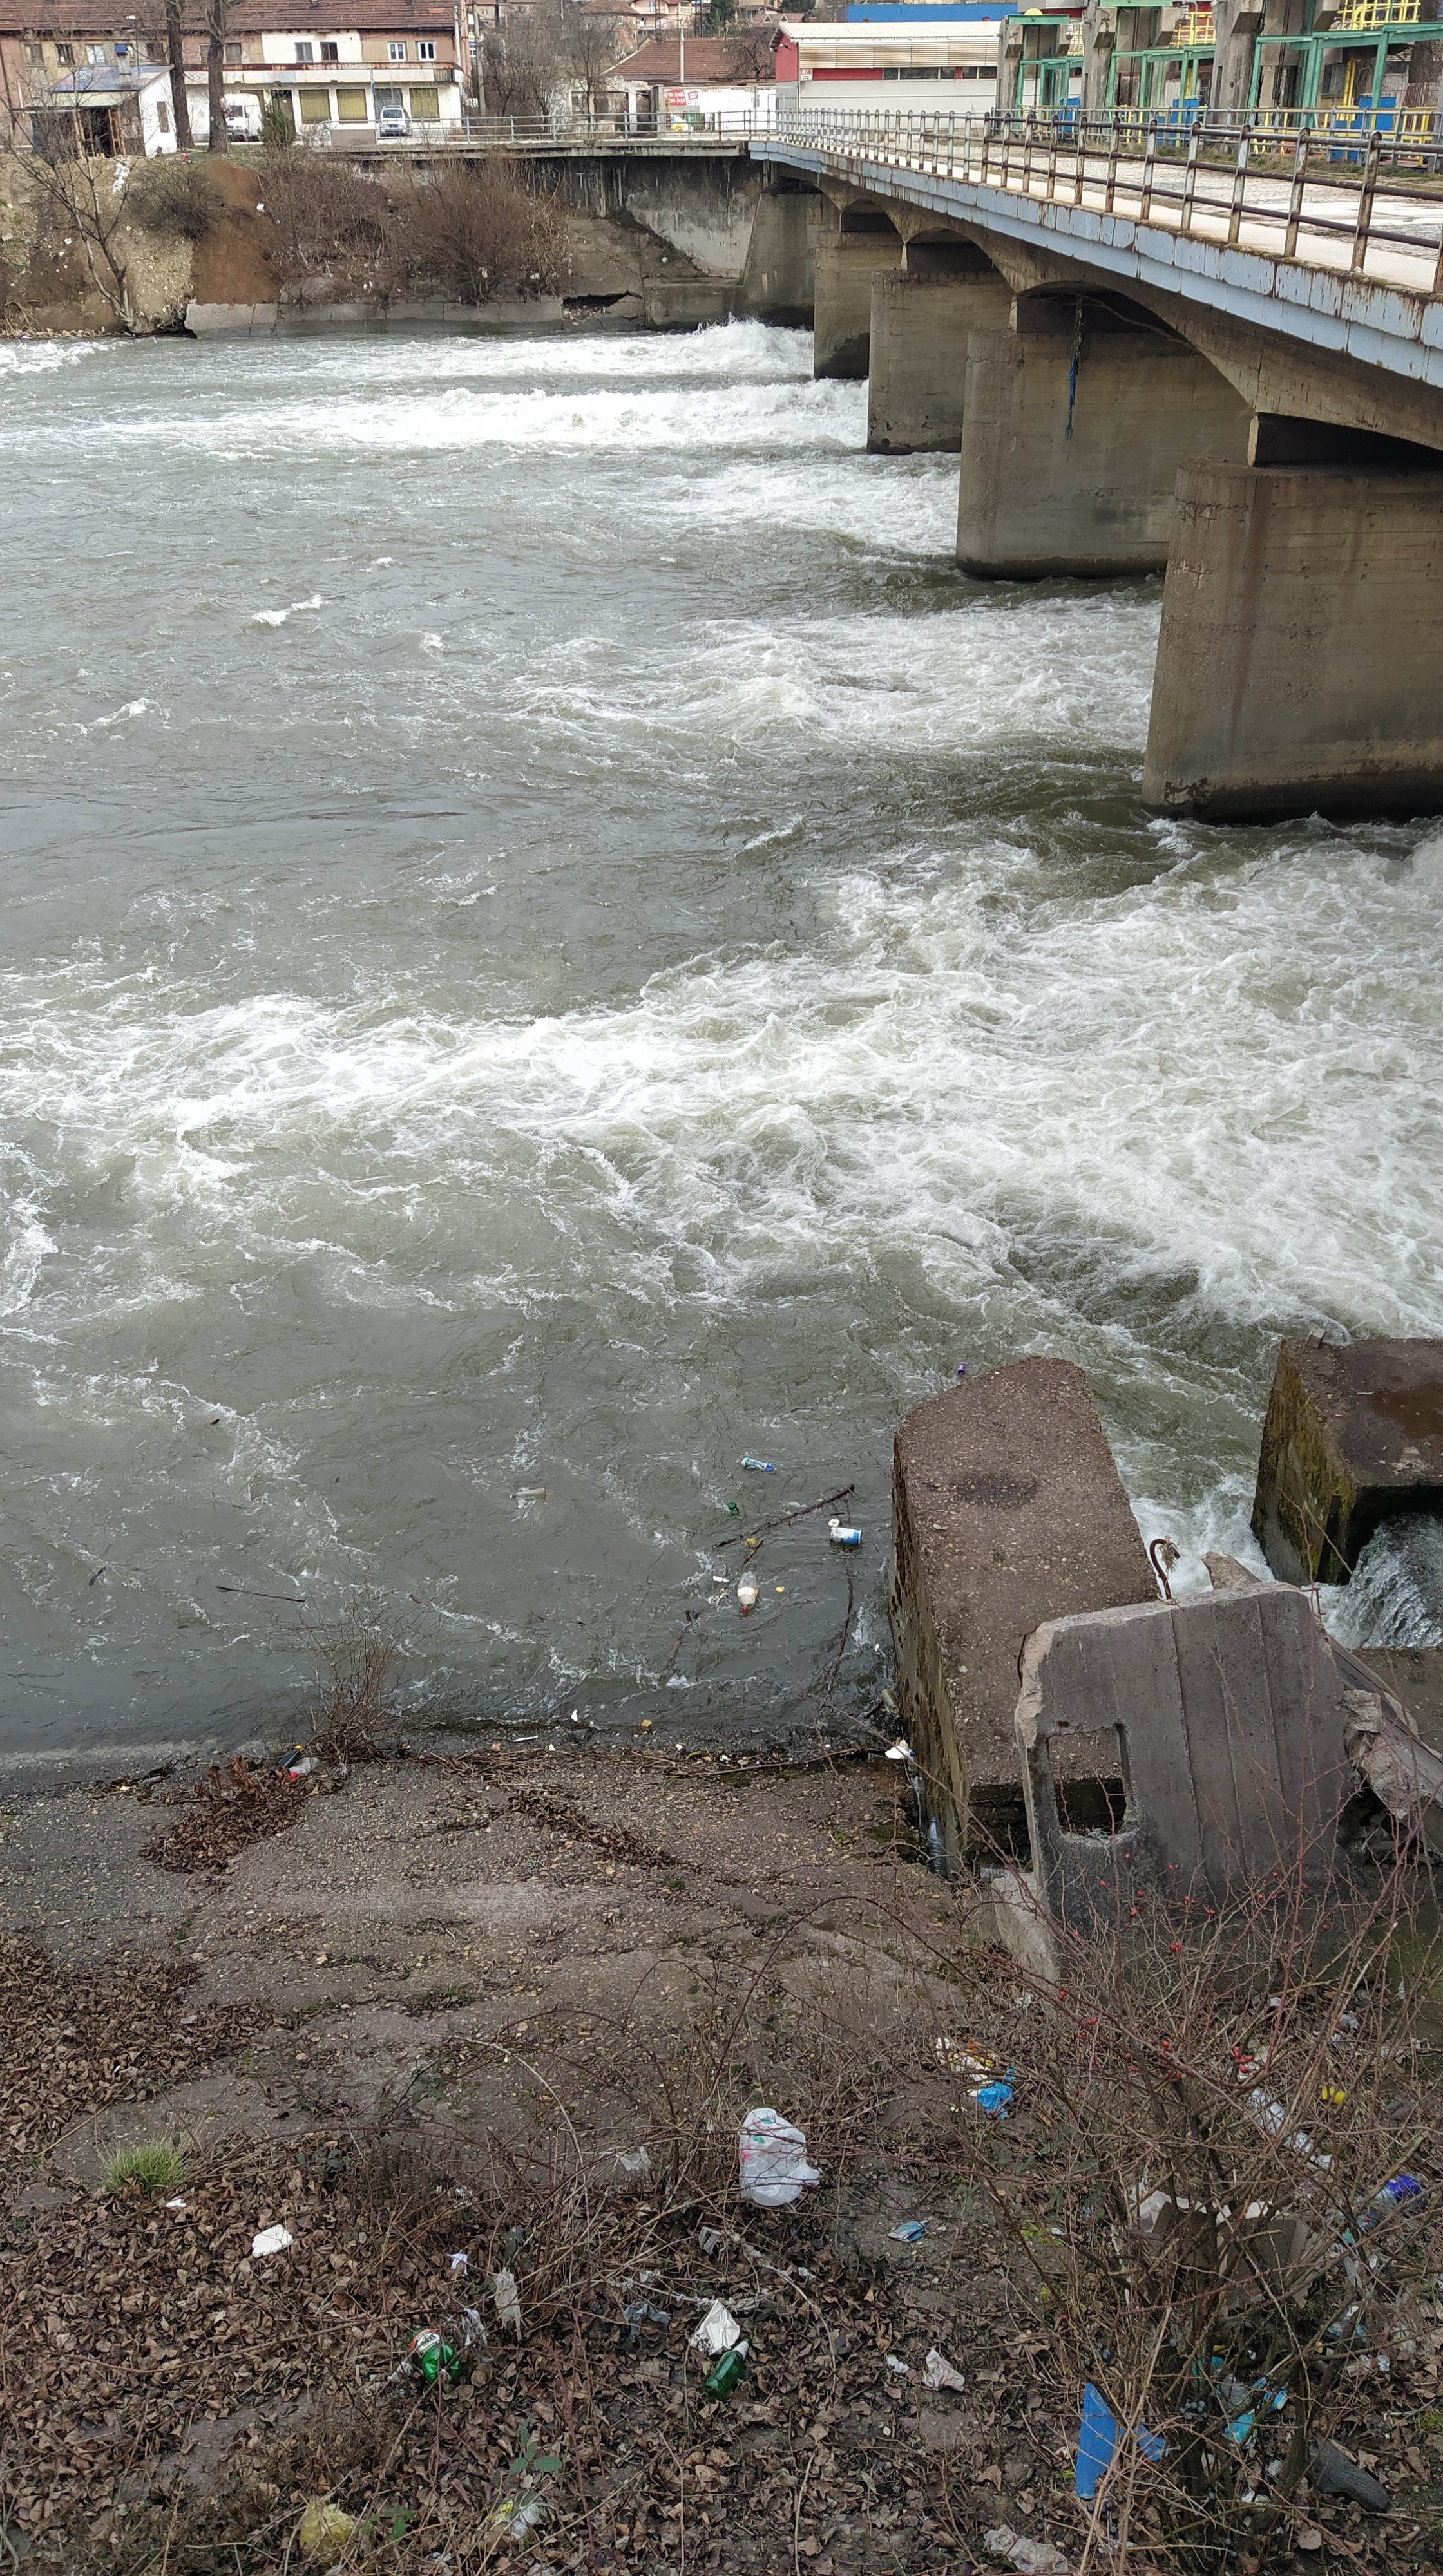Plastic Bottle: (737, 1571, 760, 1615), (508, 1486, 545, 1499), (740, 1458, 772, 1470), (882, 1688, 898, 1713), (728, 1500, 738, 1514), (956, 1361, 965, 1375)
